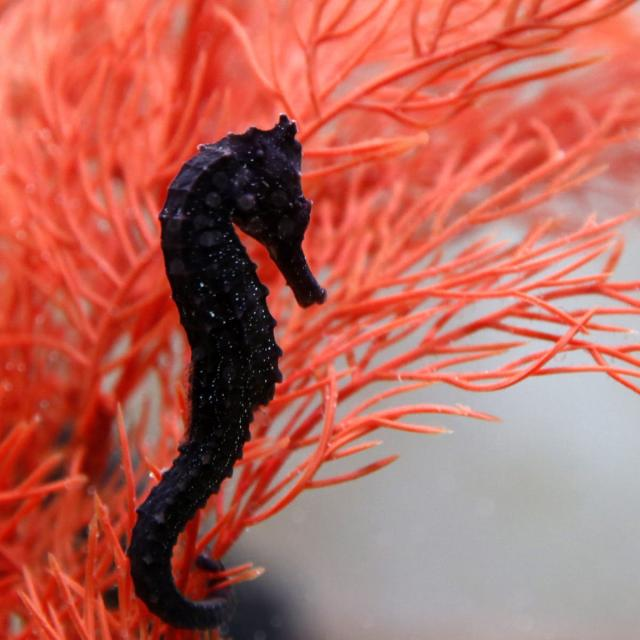seahorse: (127, 114, 326, 630)
